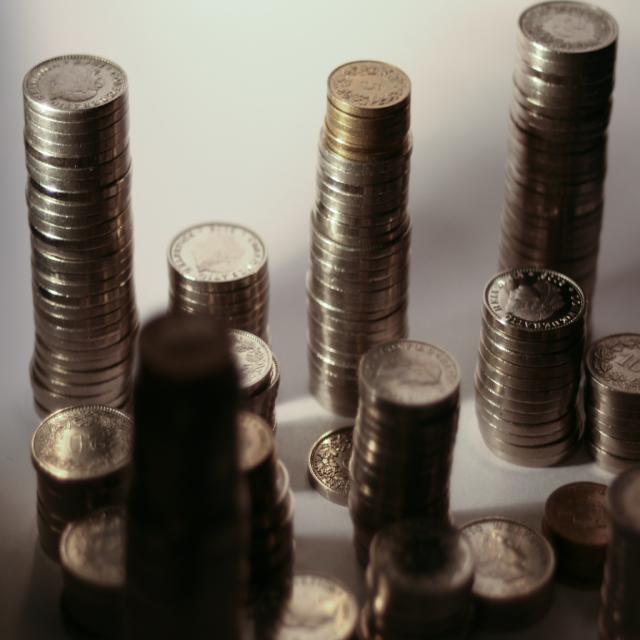Coin: (22, 0, 640, 639)
